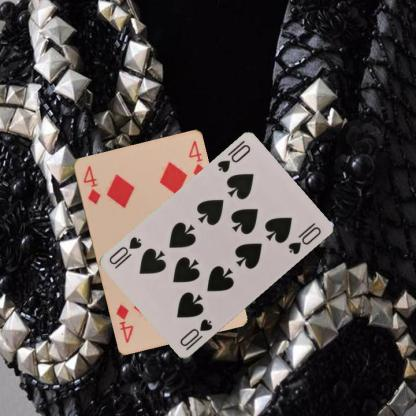10s: (177, 316, 215, 352), (214, 142, 252, 175)
4d: (80, 162, 102, 206)
